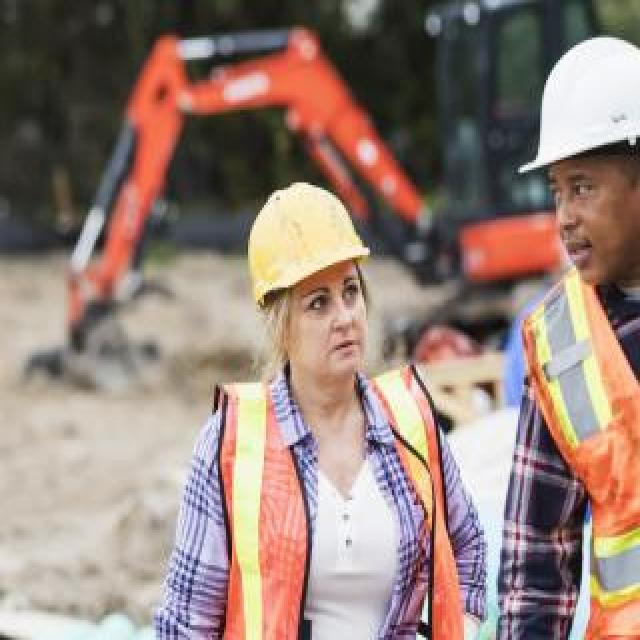Hard Hat: (238, 173, 389, 311), (512, 26, 638, 190)
Reflective Vest: (212, 374, 468, 640), (513, 267, 640, 640)
